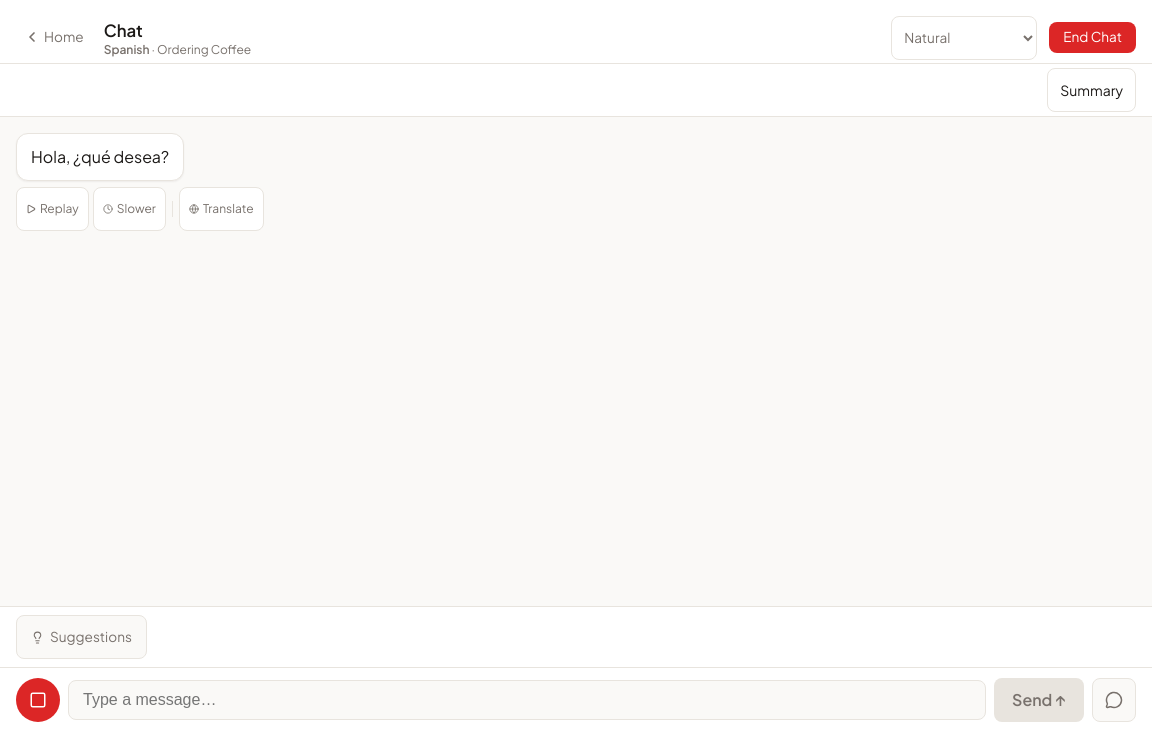
Chat — transcription confidence forwarding (T082, FR-010) › asks the learner to retry when nothing could be transcribed
Expected: the field labelled "Type a message" is shown, x1=68 y1=680 x2=986 y2=720
Click the button named "Stop recording" at (38, 700), box x1=16 y1=678 x2=60 y2=722
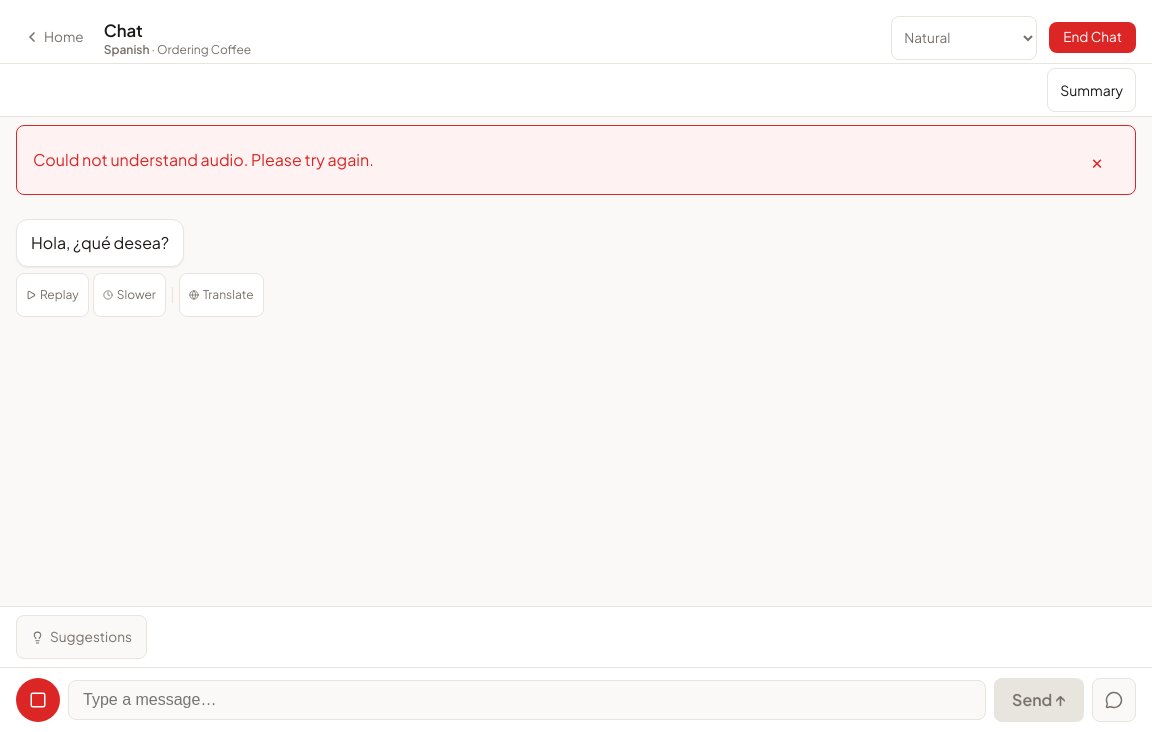
Expected: the text "Could not understand audio. Please try again." is shown, x1=33 y1=148 x2=374 y2=172
